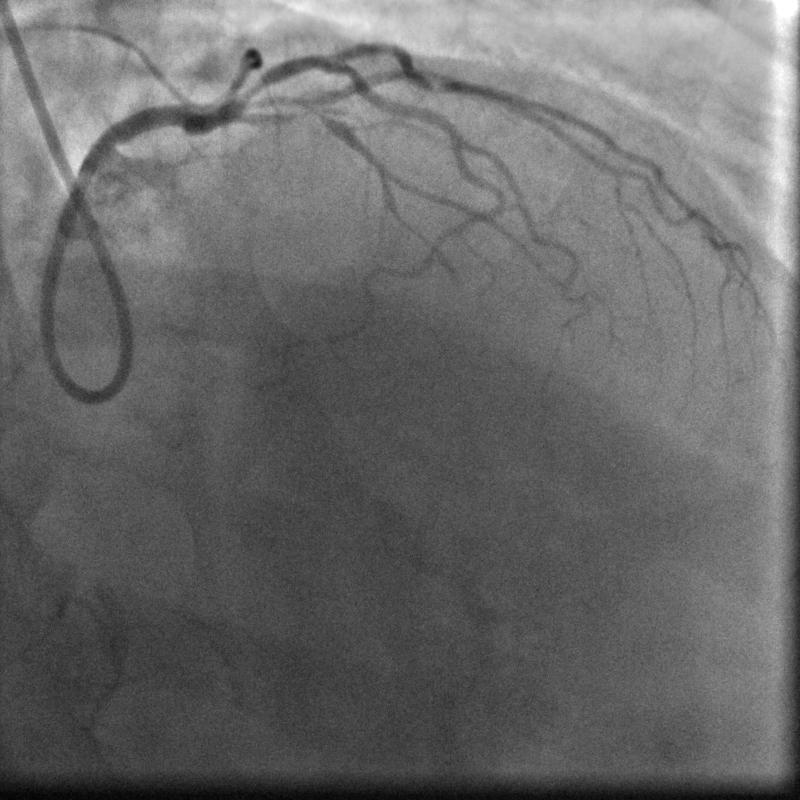Stenosis: (238, 75, 275, 111)
